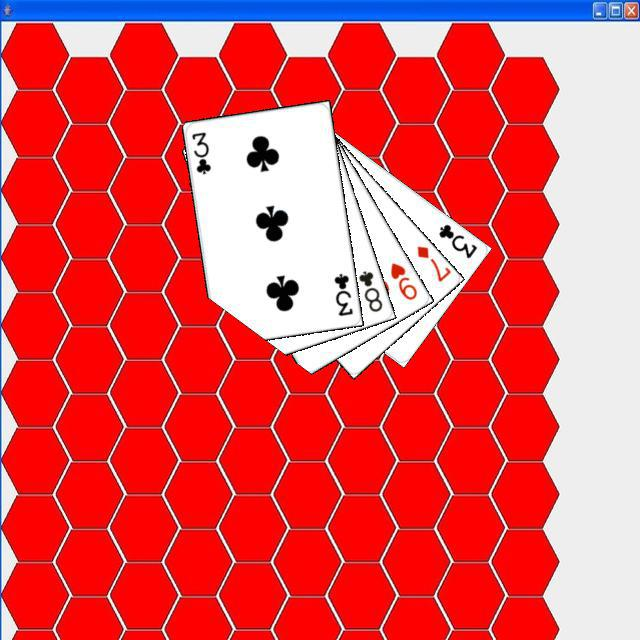3c: (434, 219, 479, 260), (329, 268, 354, 317), (187, 127, 212, 176)
7d: (412, 241, 452, 284)
8c: (354, 266, 384, 314)
9h: (385, 257, 419, 302)
